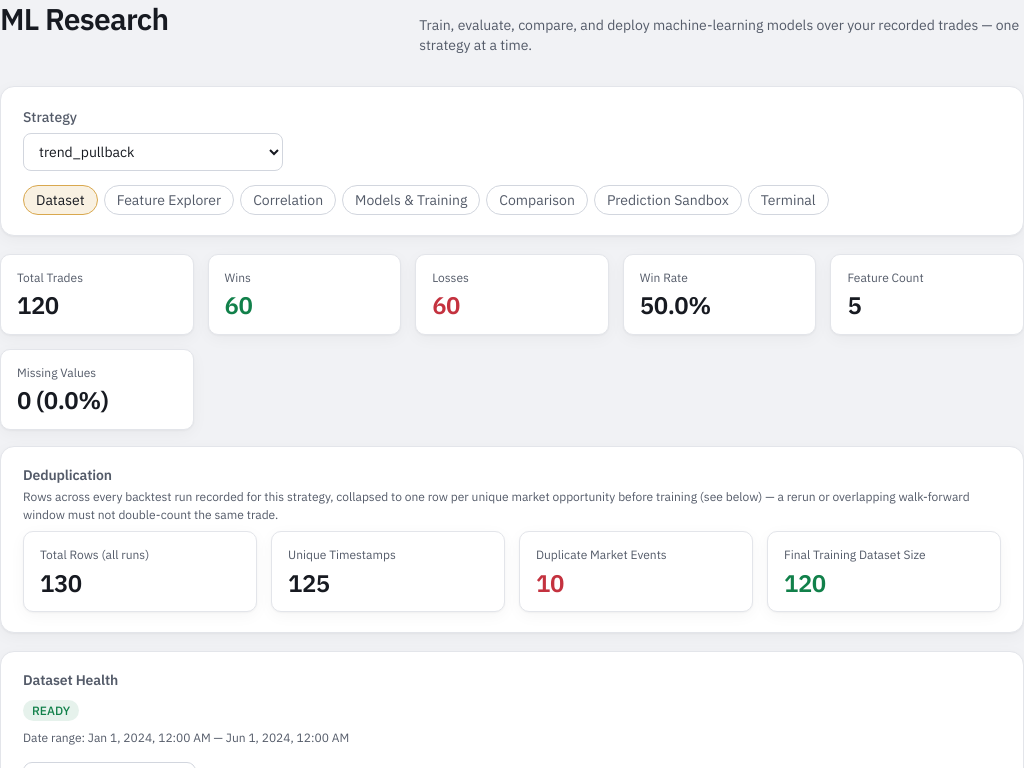
it: MlResearch › Models & Training tab: lists an existing model with in-sample/out-of-sample metrics separated
This screenshot has width=1024, height=768.
Expected: the text "READY" is shown, [23, 700, 79, 721]
Click the button "Models & Training" at (411, 200), box [342, 185, 480, 215]
(page scrolled)
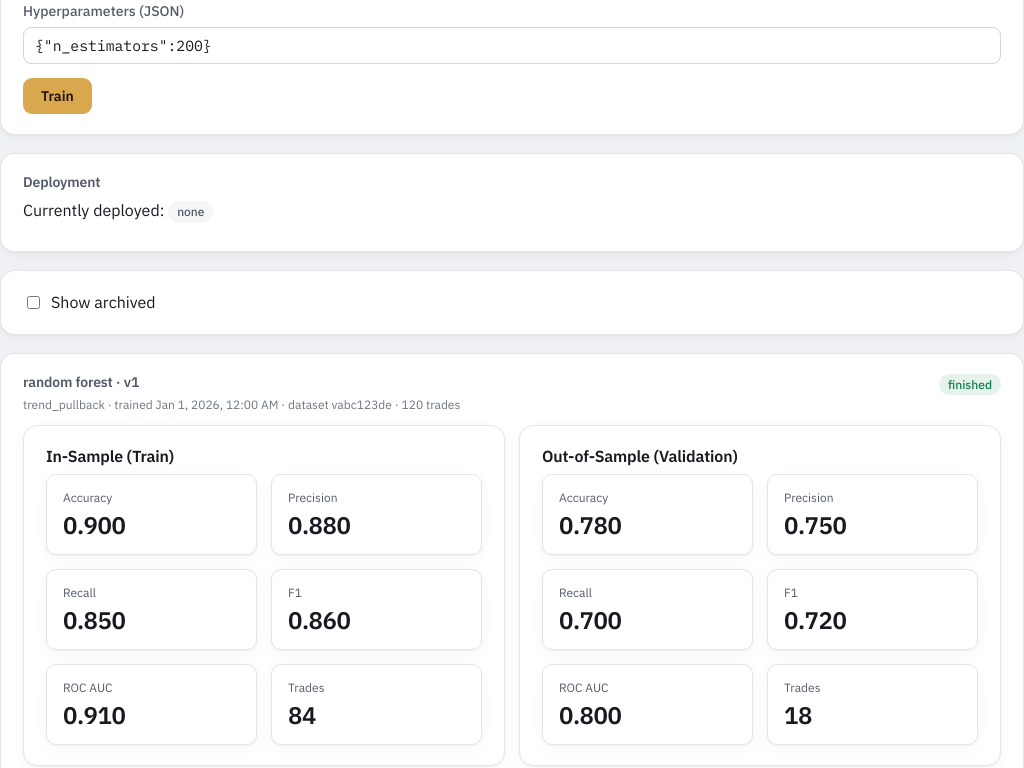
Expected: the heading "In-Sample (Train)" is shown, [46, 446, 174, 466]
Expected: the heading "Out-of-Sample (Validation)" is shown, [542, 446, 738, 466]
Expected: the text "finished" is shown, [939, 374, 1001, 396]
